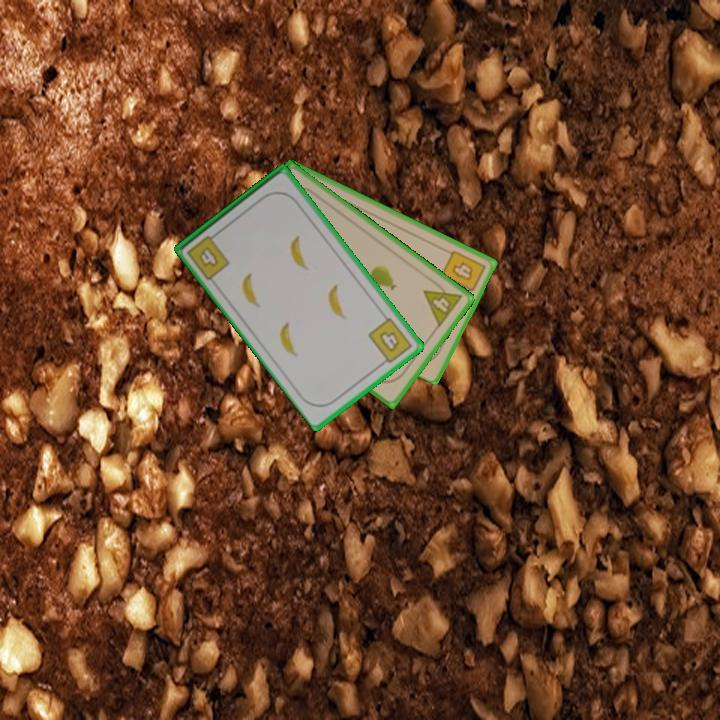4b: (364, 314, 415, 369), (437, 246, 488, 300), (183, 228, 233, 283)
4p: (420, 276, 465, 330)
